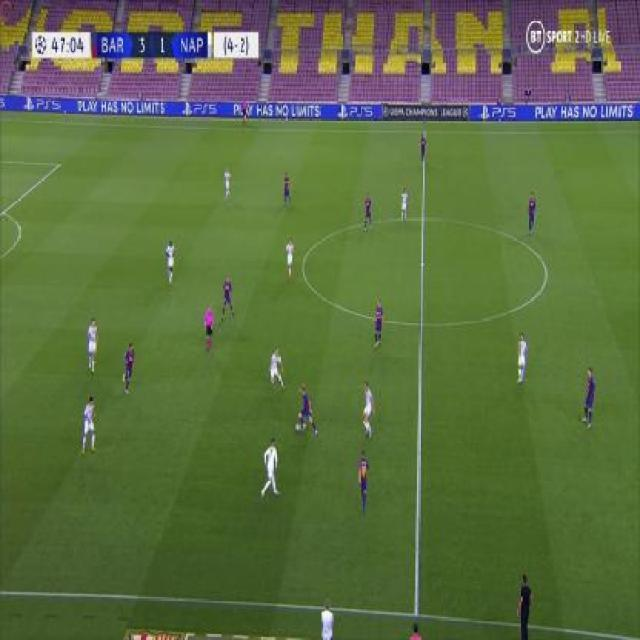ball: (295, 421, 300, 434)
player: (293, 382, 318, 438), (259, 436, 279, 499), (80, 393, 97, 456), (581, 363, 597, 429), (359, 378, 376, 440), (355, 446, 371, 511), (220, 272, 236, 323), (121, 339, 135, 396), (372, 295, 386, 351), (269, 346, 286, 392), (86, 314, 99, 373), (516, 328, 529, 384), (164, 237, 177, 286), (203, 303, 216, 352), (284, 234, 295, 280), (526, 189, 537, 234), (362, 189, 373, 232), (399, 184, 410, 223), (222, 164, 233, 201), (282, 169, 293, 206), (419, 125, 427, 165), (240, 94, 249, 128)
